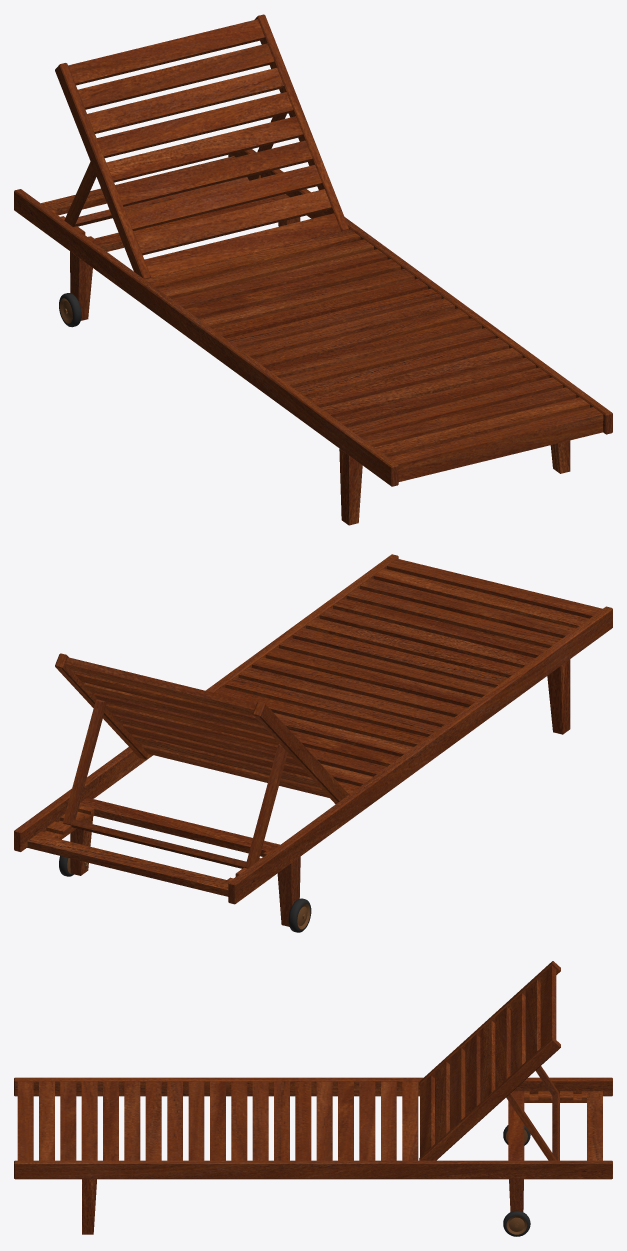
File: wood_pool_chair.glb
3 views of the same model, one above another, from view 1: azimuth 30°, elevation 25°; view 2: azimuth 150°, elevation 25°; view 3: azimuth 270°, elevation 25° (orthographic). The views are drawn at different scales.
Parts seen in each view (by area): view 1: Cube.008, Cube.009, Cube.007, Cube.010, Cube.011, Cube.014, Cube.018, Cube.015, Cube.016, Cube.012; view 2: Cube.008, Cube.007, Cube.009, Cube.018, Cube.010, Cube.012, Cube.015, Cube.016, Cube.014, Cylinder.001, Cube.017; view 3: Cube.008, Cube.007, Cube.009, Cube.010, Cube.018, Cube.012, Cube.015, Cylinder.001, Cube.014, Cube.017, Cube.016.
Part boxes in pixels (bbox=[...]): Cube.008: bbox=[145, 229, 603, 470]; Cube.009: bbox=[68, 19, 341, 277]; Cube.007: bbox=[14, 149, 612, 486]; Cube.010: bbox=[55, 14, 348, 279]; Cube.011: bbox=[398, 421, 602, 481]; Cube.014: bbox=[339, 440, 570, 525]; Cube.018: bbox=[64, 114, 286, 226]; Cube.015: bbox=[90, 194, 289, 251]; Cube.016: bbox=[70, 217, 300, 320]; Cube.012: bbox=[41, 156, 235, 215]; Cube.008: bbox=[214, 558, 602, 794]; Cube.007: bbox=[14, 554, 612, 904]; Cube.009: bbox=[65, 657, 329, 797]; Cube.018: bbox=[63, 699, 287, 868]; Cube.010: bbox=[55, 653, 348, 804]; Cube.012: bbox=[27, 834, 230, 896]; Cube.015: bbox=[79, 797, 279, 856]; Cube.016: bbox=[70, 817, 300, 926]; Cube.014: bbox=[547, 659, 570, 734]; Cylinder.001: bbox=[59, 856, 311, 932]; Cube.017: bbox=[38, 805, 269, 880]; Cube.008: bbox=[17, 1081, 418, 1160]; Cube.007: bbox=[14, 1077, 612, 1179]; Cube.009: bbox=[420, 966, 556, 1157]; Cube.010: bbox=[419, 961, 560, 1160]; Cube.018: bbox=[506, 1066, 559, 1160]; Cube.012: bbox=[587, 1091, 602, 1160]; Cube.015: bbox=[508, 1091, 524, 1160]; Cylinder.001: bbox=[503, 1125, 530, 1236]; Cube.014: bbox=[82, 1179, 96, 1234]; Cube.017: bbox=[524, 1091, 586, 1102]; Cube.016: bbox=[509, 1179, 523, 1211].
Size of the model in its own units: 1.02 by 0.9844 by 2.79.
1 material, 1 textured.
